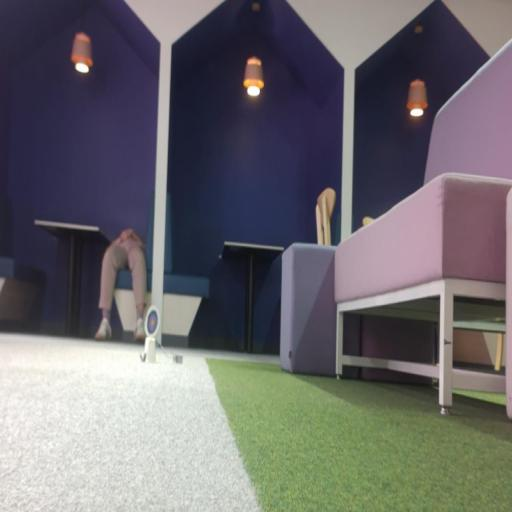target: (144, 306, 160, 338)
